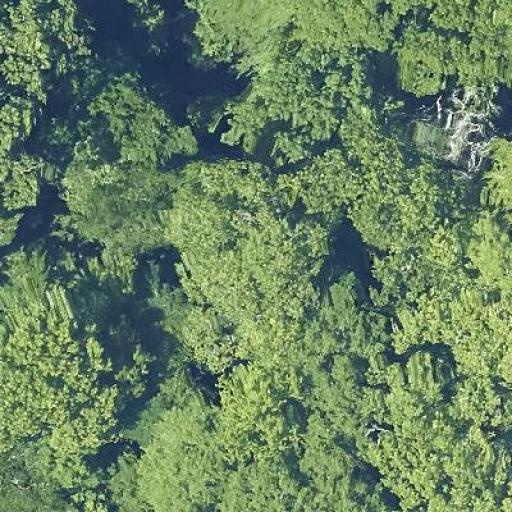tree-top: (158, 175, 336, 337), (3, 248, 107, 428), (56, 138, 178, 274), (125, 375, 221, 512), (205, 69, 336, 166), (368, 417, 499, 509), (396, 0, 512, 98), (392, 285, 512, 378), (0, 243, 83, 370), (348, 156, 454, 252), (86, 68, 190, 163), (0, 1, 99, 88), (272, 0, 402, 61), (181, 0, 306, 61), (310, 277, 390, 371), (202, 442, 308, 512), (415, 88, 505, 165), (301, 417, 371, 512), (0, 104, 57, 220), (213, 363, 292, 442), (42, 436, 135, 492), (386, 344, 454, 418), (444, 370, 512, 432), (302, 353, 370, 412), (462, 212, 510, 290), (102, 336, 160, 400), (480, 130, 512, 236), (276, 216, 338, 269), (366, 250, 427, 302), (144, 275, 184, 340), (111, 0, 178, 35)
